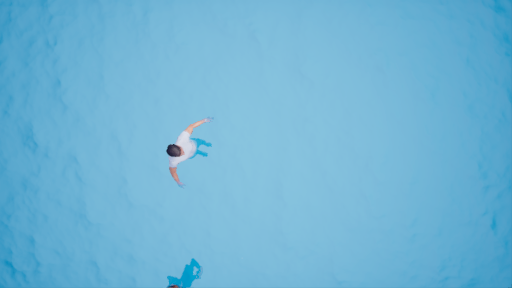person: (159, 114, 221, 180), (166, 256, 211, 288)
